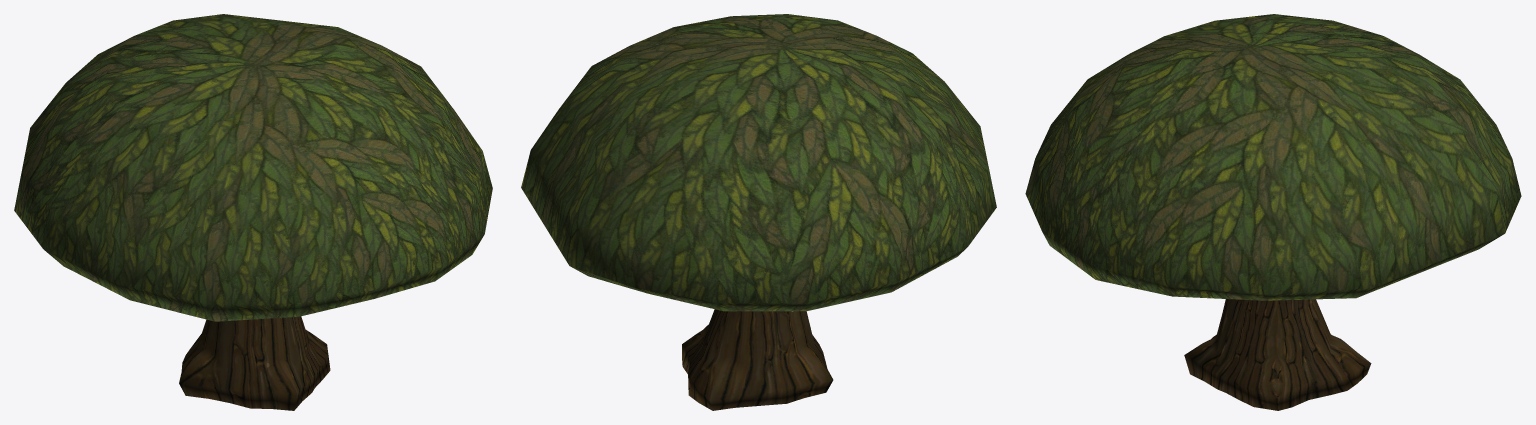
The model's file is FattWillowShape.dae.
3 renders of one model, left to right at view 1: azimuth 30°, elevation 25°; view 2: azimuth 150°, elevation 25°; view 3: azimuth 270°, elevation 25°, orthographic.
Parts seen in each view (by area): view 1: FattWillow; view 2: FattWillow; view 3: FattWillow.
Boxes of the visible parts, x1=… form: FattWillow: x1=14, y1=14, x2=492, y2=410; FattWillow: x1=521, y1=14, x2=996, y2=410; FattWillow: x1=1025, y1=14, x2=1521, y2=410.
Size of the model in its own units: 23.94 by 17.9 by 24.83.
